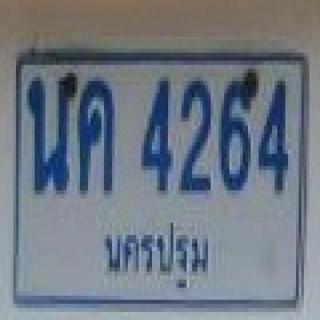A04: (74, 73, 120, 197)
A25: (23, 70, 77, 200)
N02: (176, 75, 217, 196)
N04: (136, 72, 175, 199), (257, 79, 296, 198)
N06: (217, 76, 255, 196)
P28: (98, 219, 212, 290)
